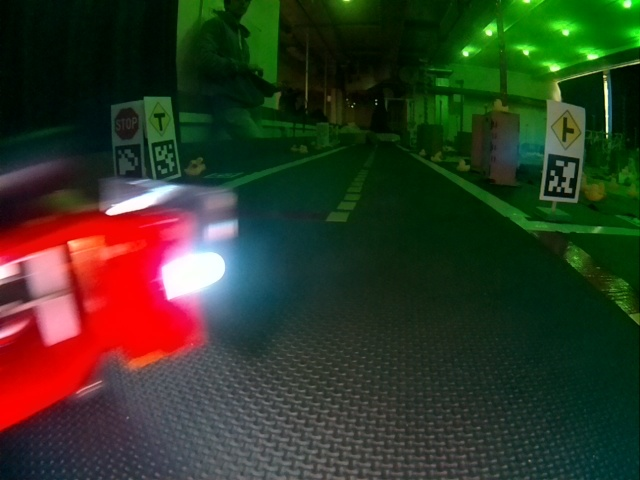Duckie: (587, 184, 602, 201), (186, 160, 199, 175), (493, 99, 509, 111), (457, 160, 470, 172), (431, 153, 441, 163), (417, 148, 426, 157), (198, 157, 205, 168)
Duckiebot: (2, 179, 240, 432)
Intersection sign: (547, 106, 583, 151), (147, 100, 174, 136)
QR code: (544, 159, 578, 201), (150, 138, 180, 179), (112, 144, 144, 177)
Stop sign: (112, 107, 139, 137)
